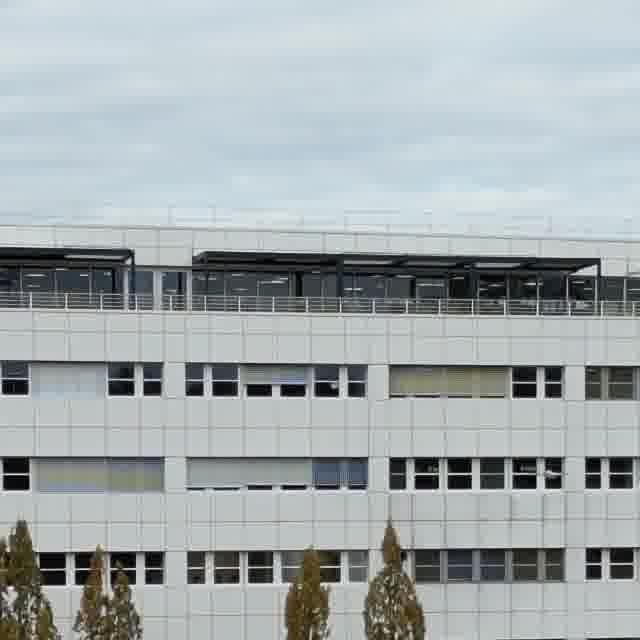Drohne: (544, 469, 561, 479)
